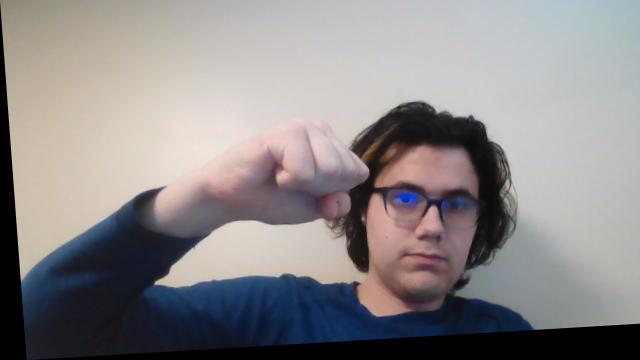Rock: (141, 106, 377, 258)
